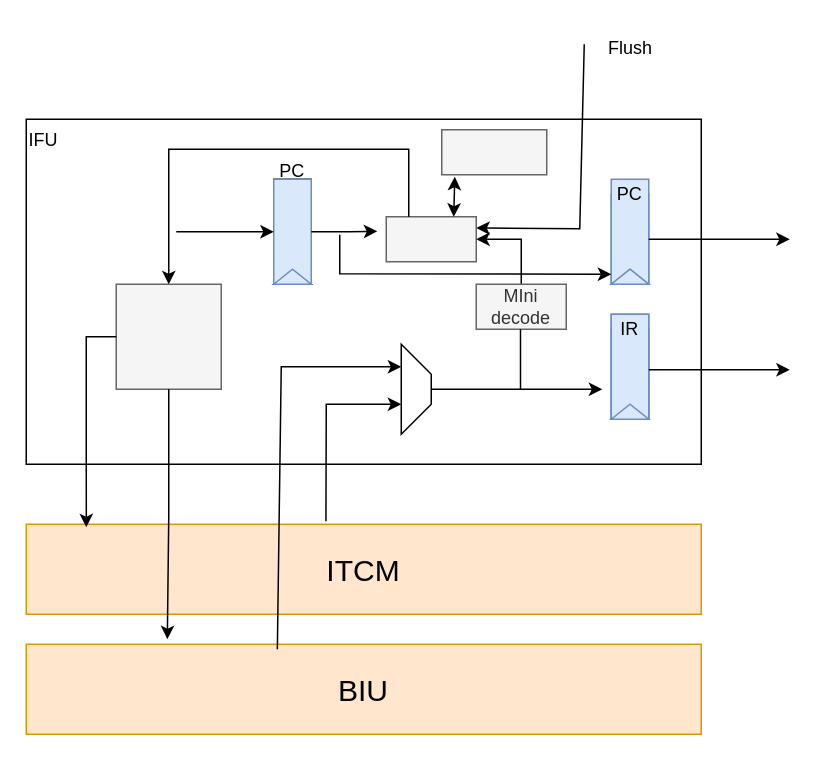
Some shapes in this 828 by 762 pixel diagram are drawn without their labels. Each missing label, with the box of its shape:
PC生成: (385, 215, 476, 262)
SimpleBPU: (440, 128, 547, 175)
地址判断和ICB总线控制: (115, 283, 221, 389)
